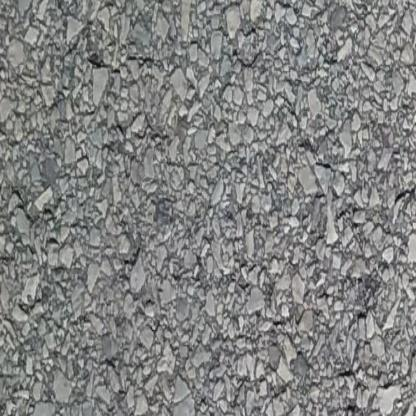Cracks: (290, 0, 359, 416)
